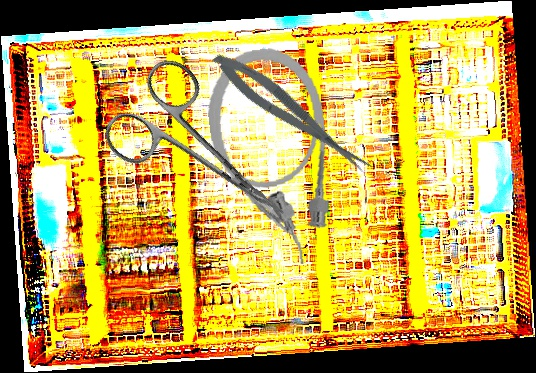Cannula: (201, 42, 341, 274)
Iris Scissors: (94, 50, 317, 264)
Micro Scissor: (206, 43, 376, 185)
